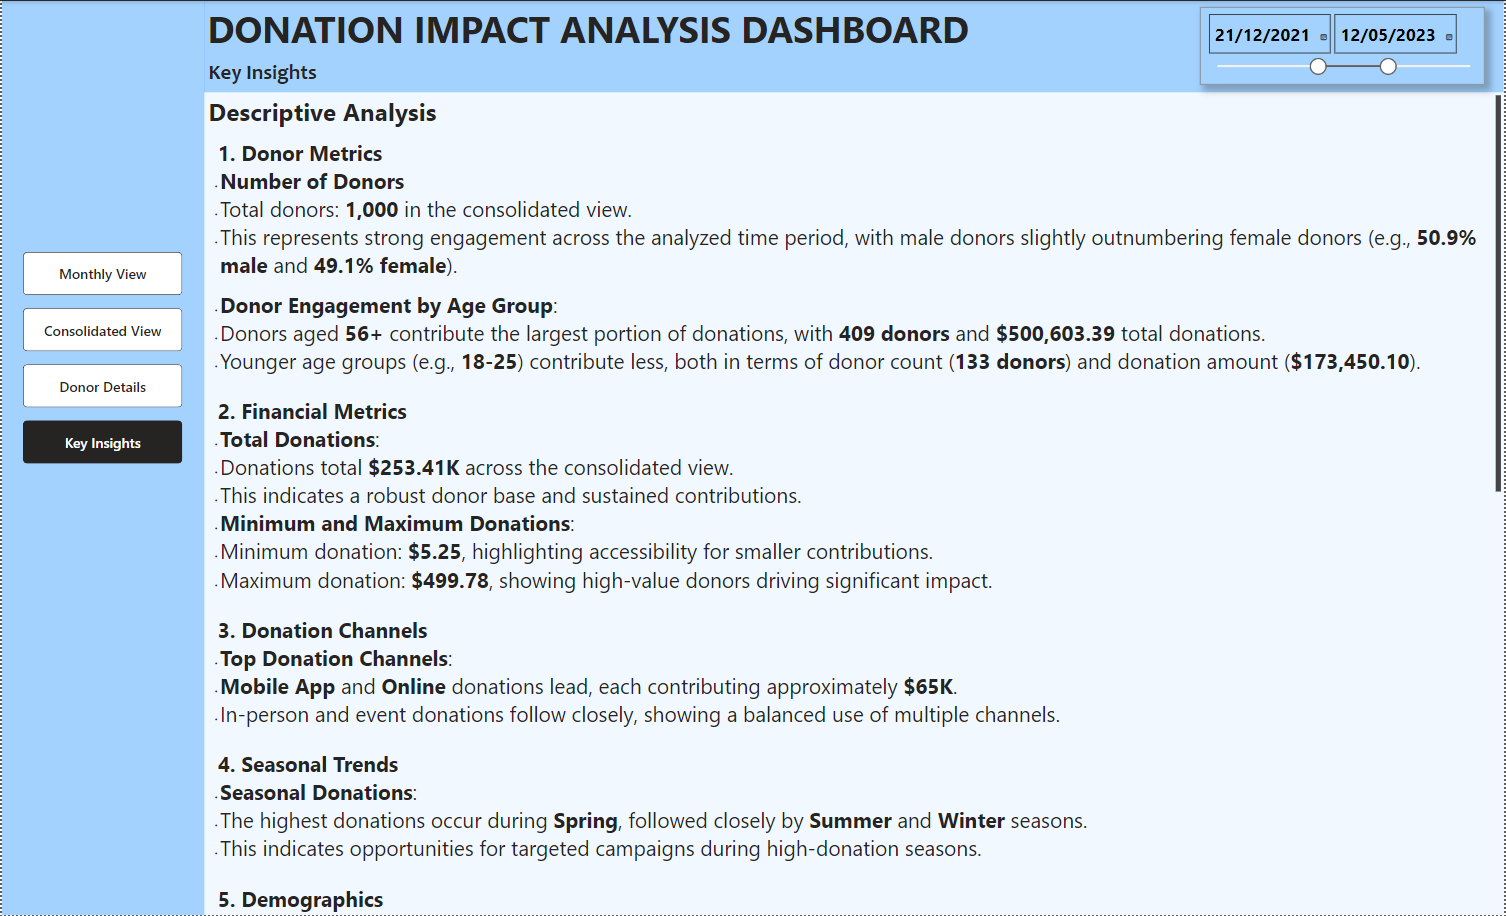

What the dashboard file says about the page in this screenshot:
{"tool":"powerbi","page":{"name":"Key Insights","canvas":[2300,1400],"ordinal":3},"visuals":[{"type":"shape","box":[309.3,0,1990.7,139.8],"z":0},{"type":"shape","box":[0,0,310,1399.9],"z":1000},{"type":"textbox","box":[309.3,0,1211.2,92.6],"z":2000},{"type":"slicer","fields":{"Values":["Cleaned_Master_Dataset.Donation_Date"]},"box":[1834.5,8.6,436.2,119],"z":3000},{"type":"textbox","box":[310.3,84.5,270.7,55.2],"z":4000},{"type":"textbox","box":[310.9,139.4,1989.7,1260.6],"z":5000},{"type":"pageNavigator","box":[32.8,384.5,244.8,327.6],"z":6000}]}

Visuals, with their boxes in screenshot pixels (x1, y1, x2, y2), scaled from the page's 2300x1400 canvas onto the 1506x916 screenshot:
shape: locate(203, 0, 1505, 91)
shape: locate(0, 0, 203, 915)
textbox: locate(203, 0, 996, 61)
slicer - Cleaned_Master_Dataset.Donation_Date: locate(1201, 6, 1487, 83)
textbox: locate(203, 55, 380, 91)
textbox: locate(204, 91, 1505, 915)
pageNavigator: locate(21, 252, 182, 466)
